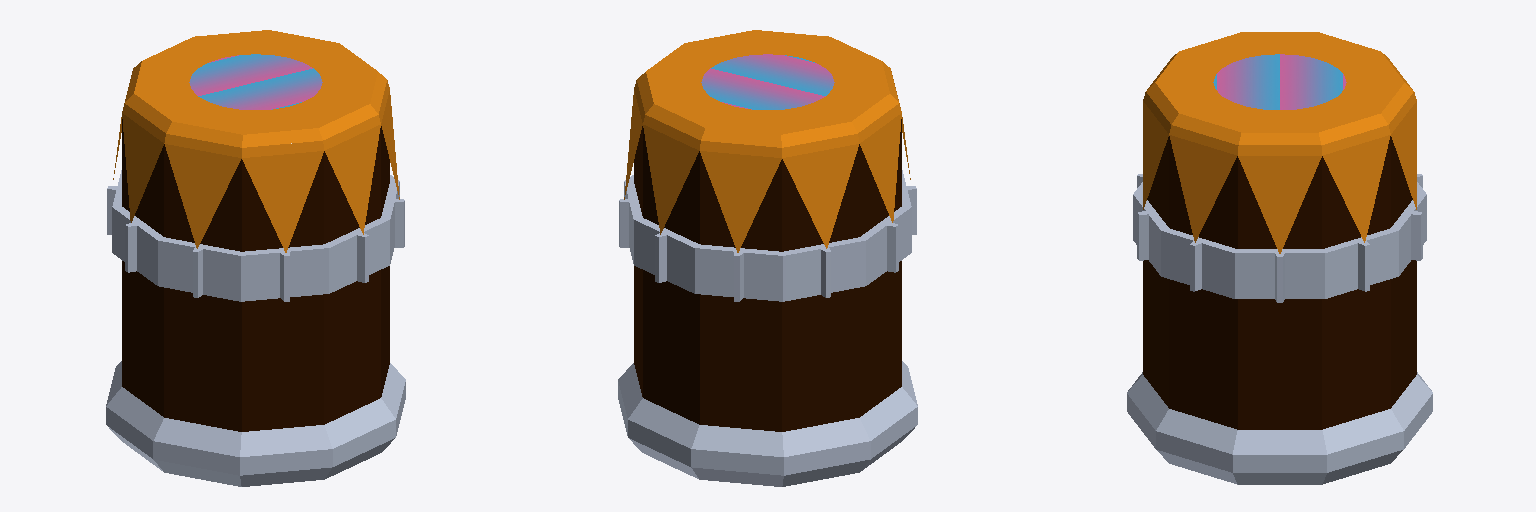
3 renders of one model, left to right at view 1: azimuth 30°, elevation 25°; view 2: azimuth 150°, elevation 25°; view 3: azimuth 270°, elevation 25°, orthographic.
Visible parts, largest first — view 1: Mesh1 drum_top1 Model; view 2: Mesh1 drum_top1 Model; view 3: Mesh1 drum_top1 Model.
Part boxes in pixels (x1,y1,x2,y2): Mesh1 drum_top1 Model: (106, 30, 405, 486); Mesh1 drum_top1 Model: (618, 30, 917, 486); Mesh1 drum_top1 Model: (1127, 32, 1432, 484).
Bounding box in the file's own units: 0.4429 × 0.568 × 0.4548.
5 materials, 3 textured.